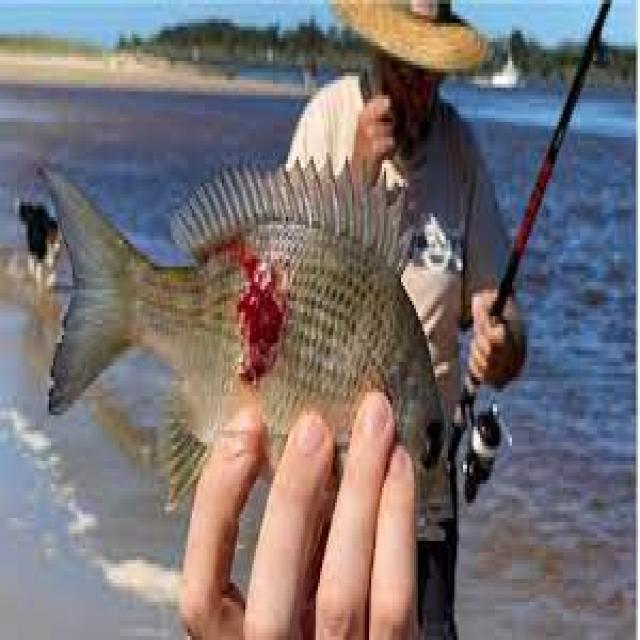EUS Disease: (42, 158, 462, 547), (193, 208, 343, 454)
